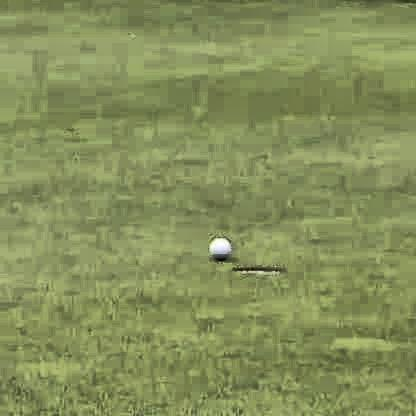golfball: (205, 235, 228, 259)
